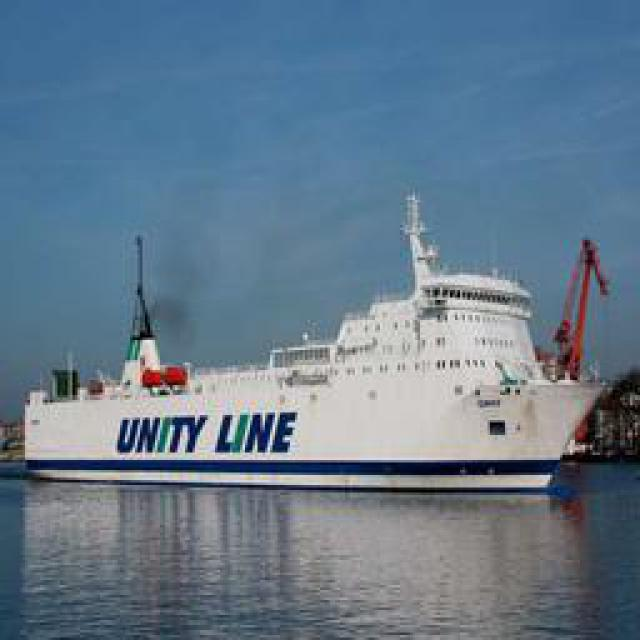Ship: (27, 200, 607, 480)
